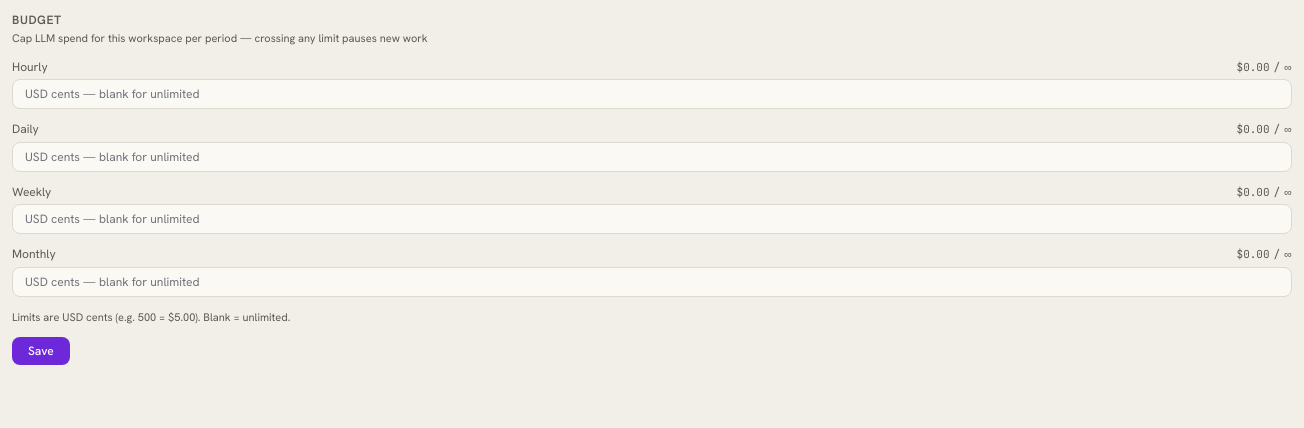
BudgetSection (multi-period) › save › surfaces the exceeded banner on a 402 PATCH
What coordinates should you click on to do the following:
click the button with test id "budget-save-btn"
I would click on:
 (41, 351)
Its box is [12,337,70,365].
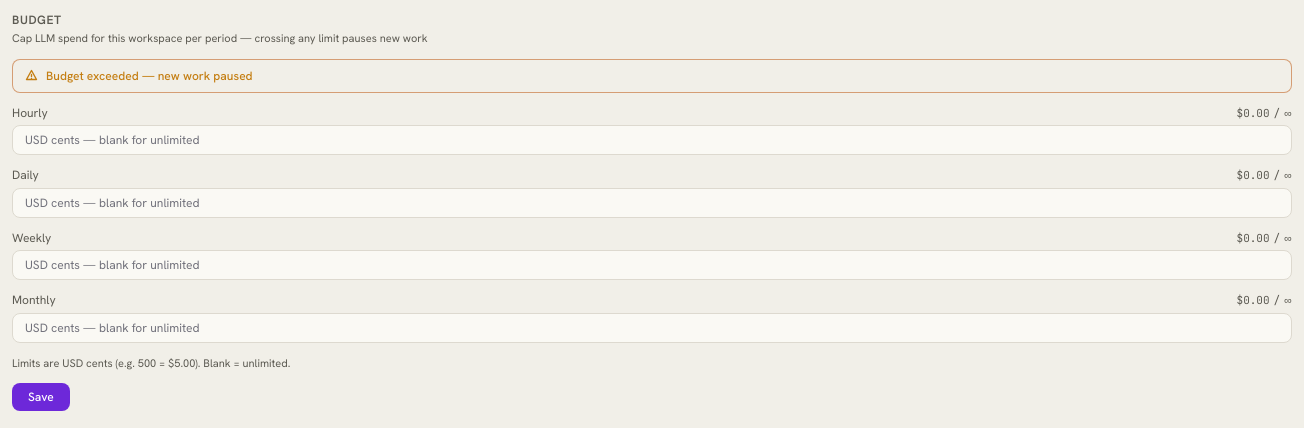
Now the message "Budget exceeded — new work paused" is shown, box [12,58,1292,92]
